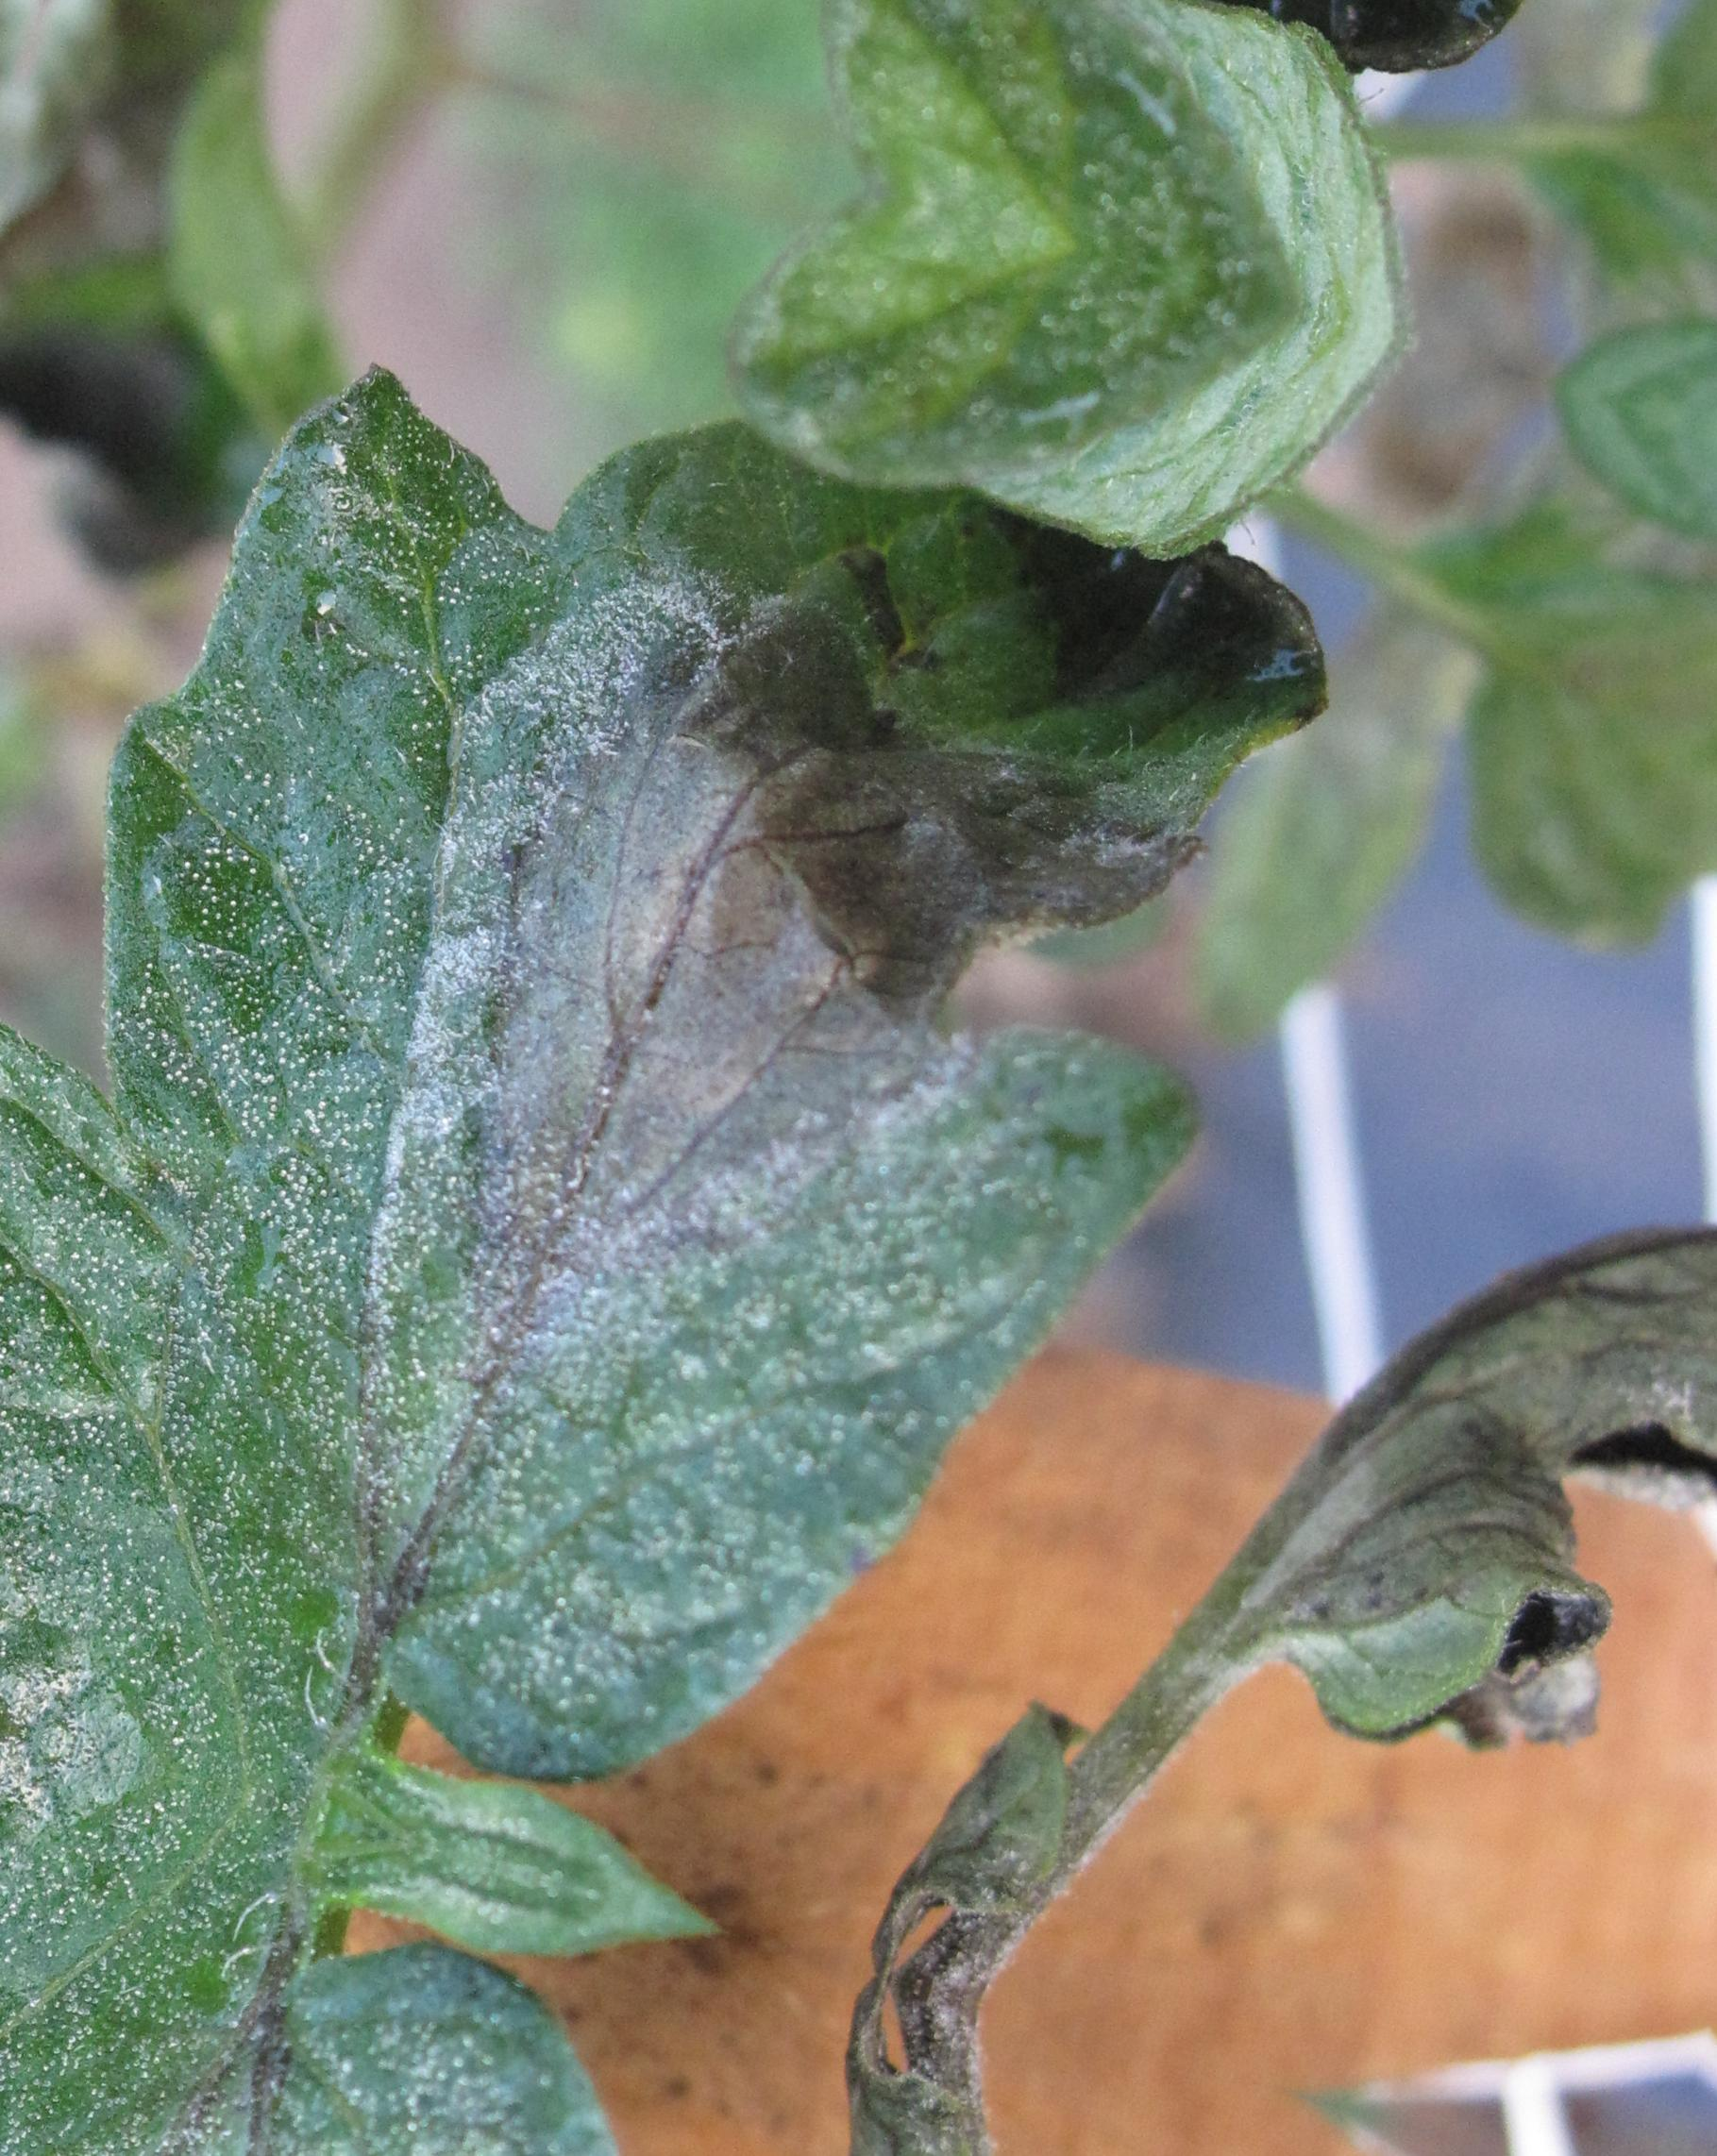Tomato leaf late blight: (0, 0, 1608, 2051)
